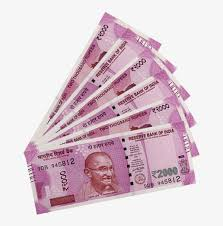twoThousand: (42, 152, 192, 192)
